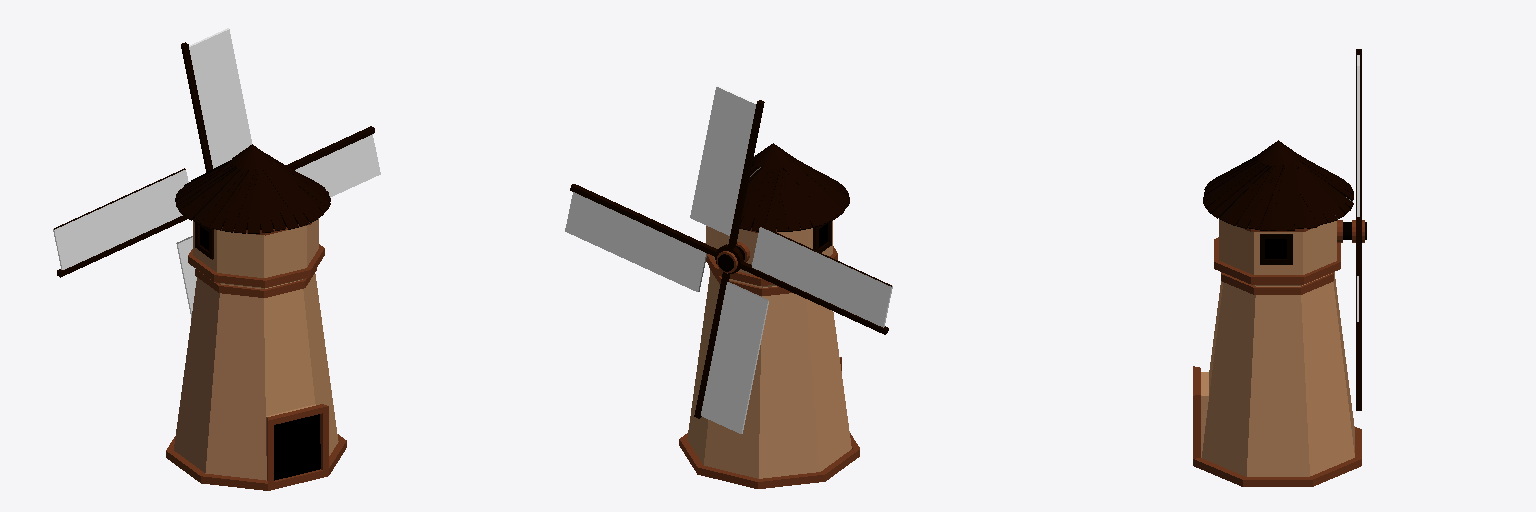
File: Moulin.obj
3 views of the same model, side by side, from view 1: azimuth 30°, elevation 25°; view 2: azimuth 150°, elevation 25°; view 3: azimuth 270°, elevation 25° (orthographic).
Visible parts, largest first — view 1: PlancheToit60; view 2: PlancheToit60; view 3: PlancheToit60.
Part boxes in pixels (x1,y1,x2,y2): PlancheToit60: (53,28,380,490); PlancheToit60: (565,85,892,488); PlancheToit60: (1193,49,1366,486).
Bounding box in the file's own units: 4.49 × 5.14 × 2.06.